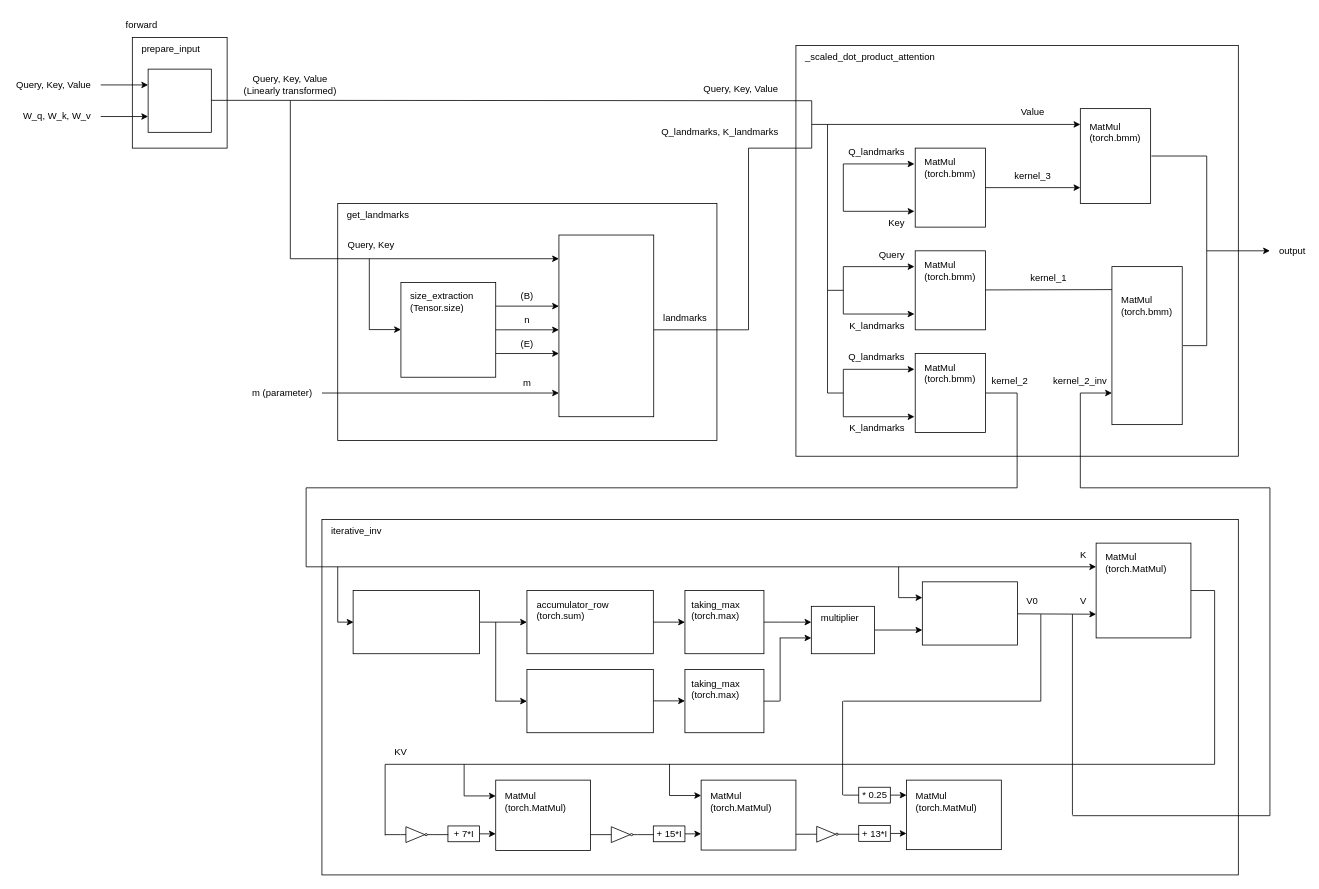
Some shapes in this 1319 by 889 pixel diagram are drawn without their labels. The box of each missing label's shape, as (x1, y1, x2, y2) in pixels:
accumulator_column (torch.sum): (526, 669, 653, 733)
divider: (922, 581, 1018, 645)
MatMul (nn.Linear): (147, 68, 211, 132)
mean_caluculator: (558, 234, 654, 417)
taking_absolute_value (torch.abs): (352, 590, 480, 654)
